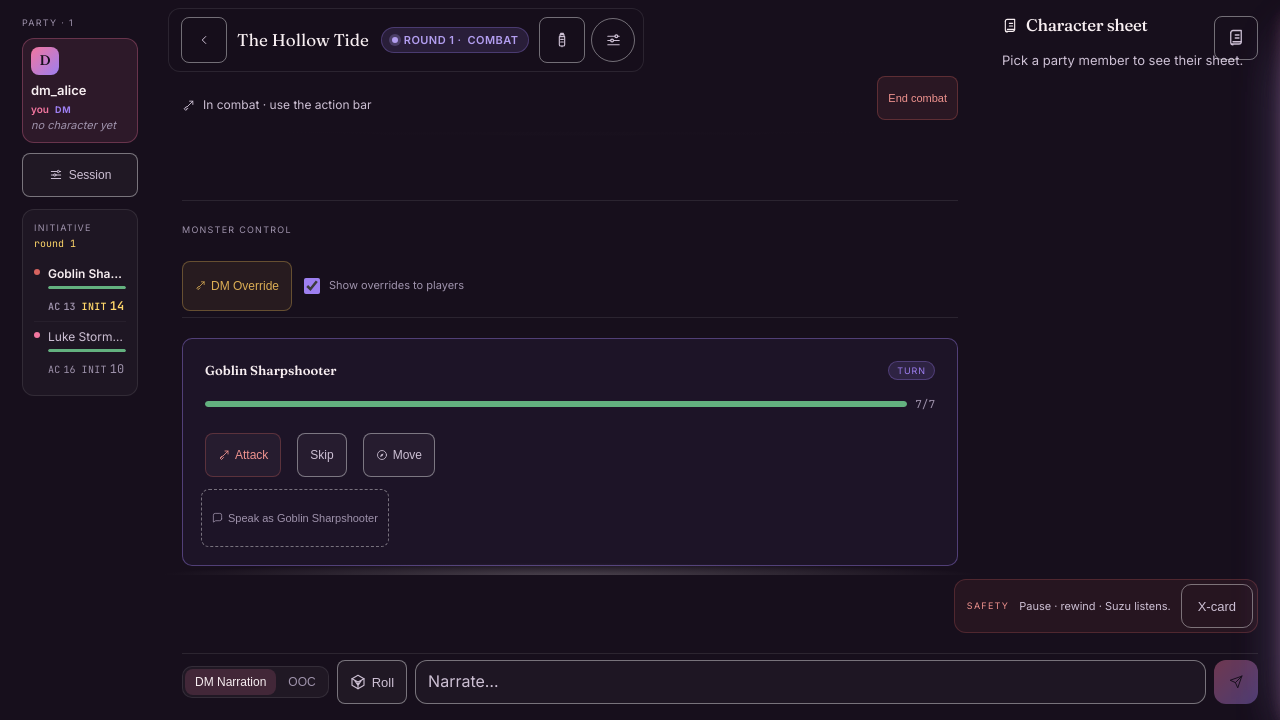
Test: S5.3 — DM monster control panel › S5.3-AC8: not_npc_turn refusal surfaced inline
Click the button with aria-label "Skip monster turn".
click(322, 454)  # box x1=297 y1=432 x2=347 y2=476
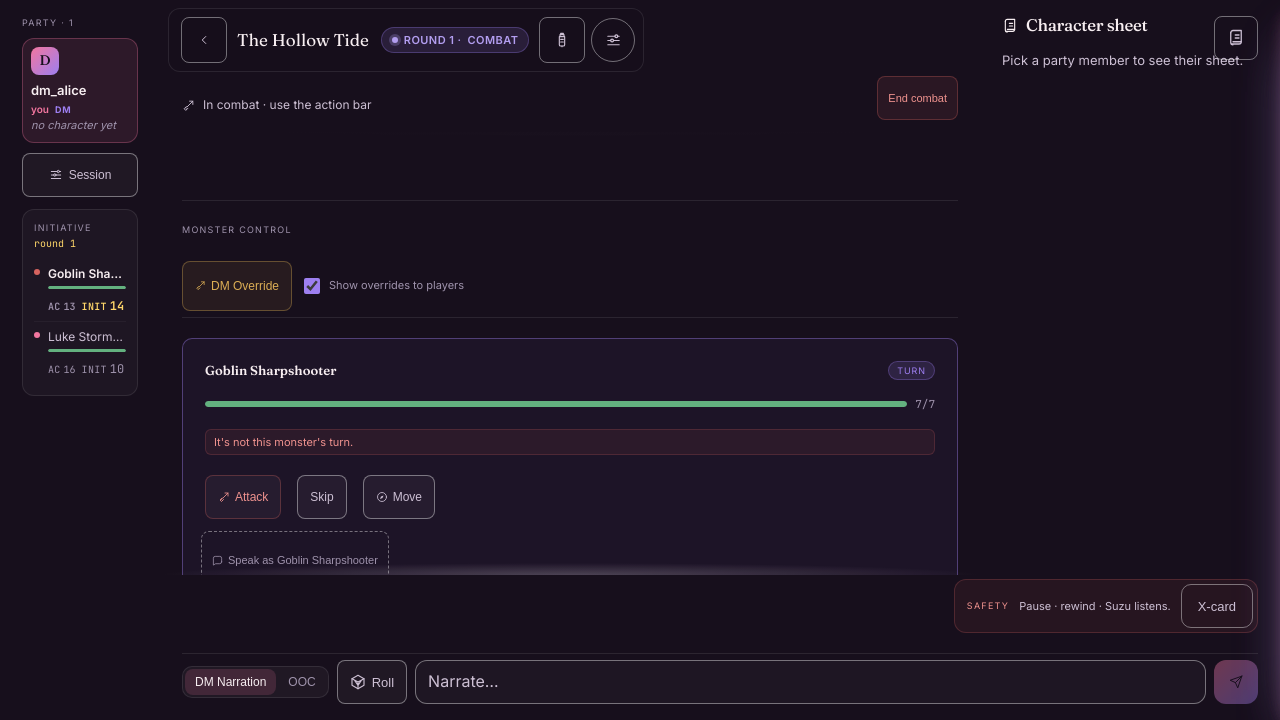
Check: the message "It's not this monster's turn." is shown, box x1=205 y1=428 x2=935 y2=455
